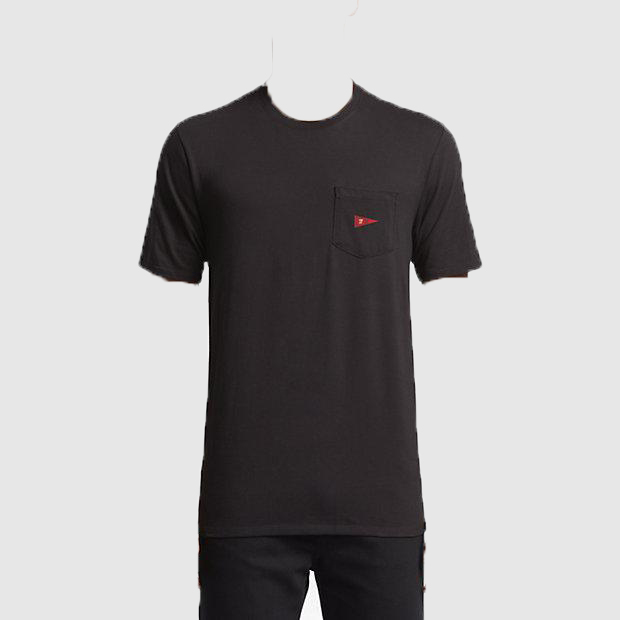teeshirt: (127, 77, 486, 537)
